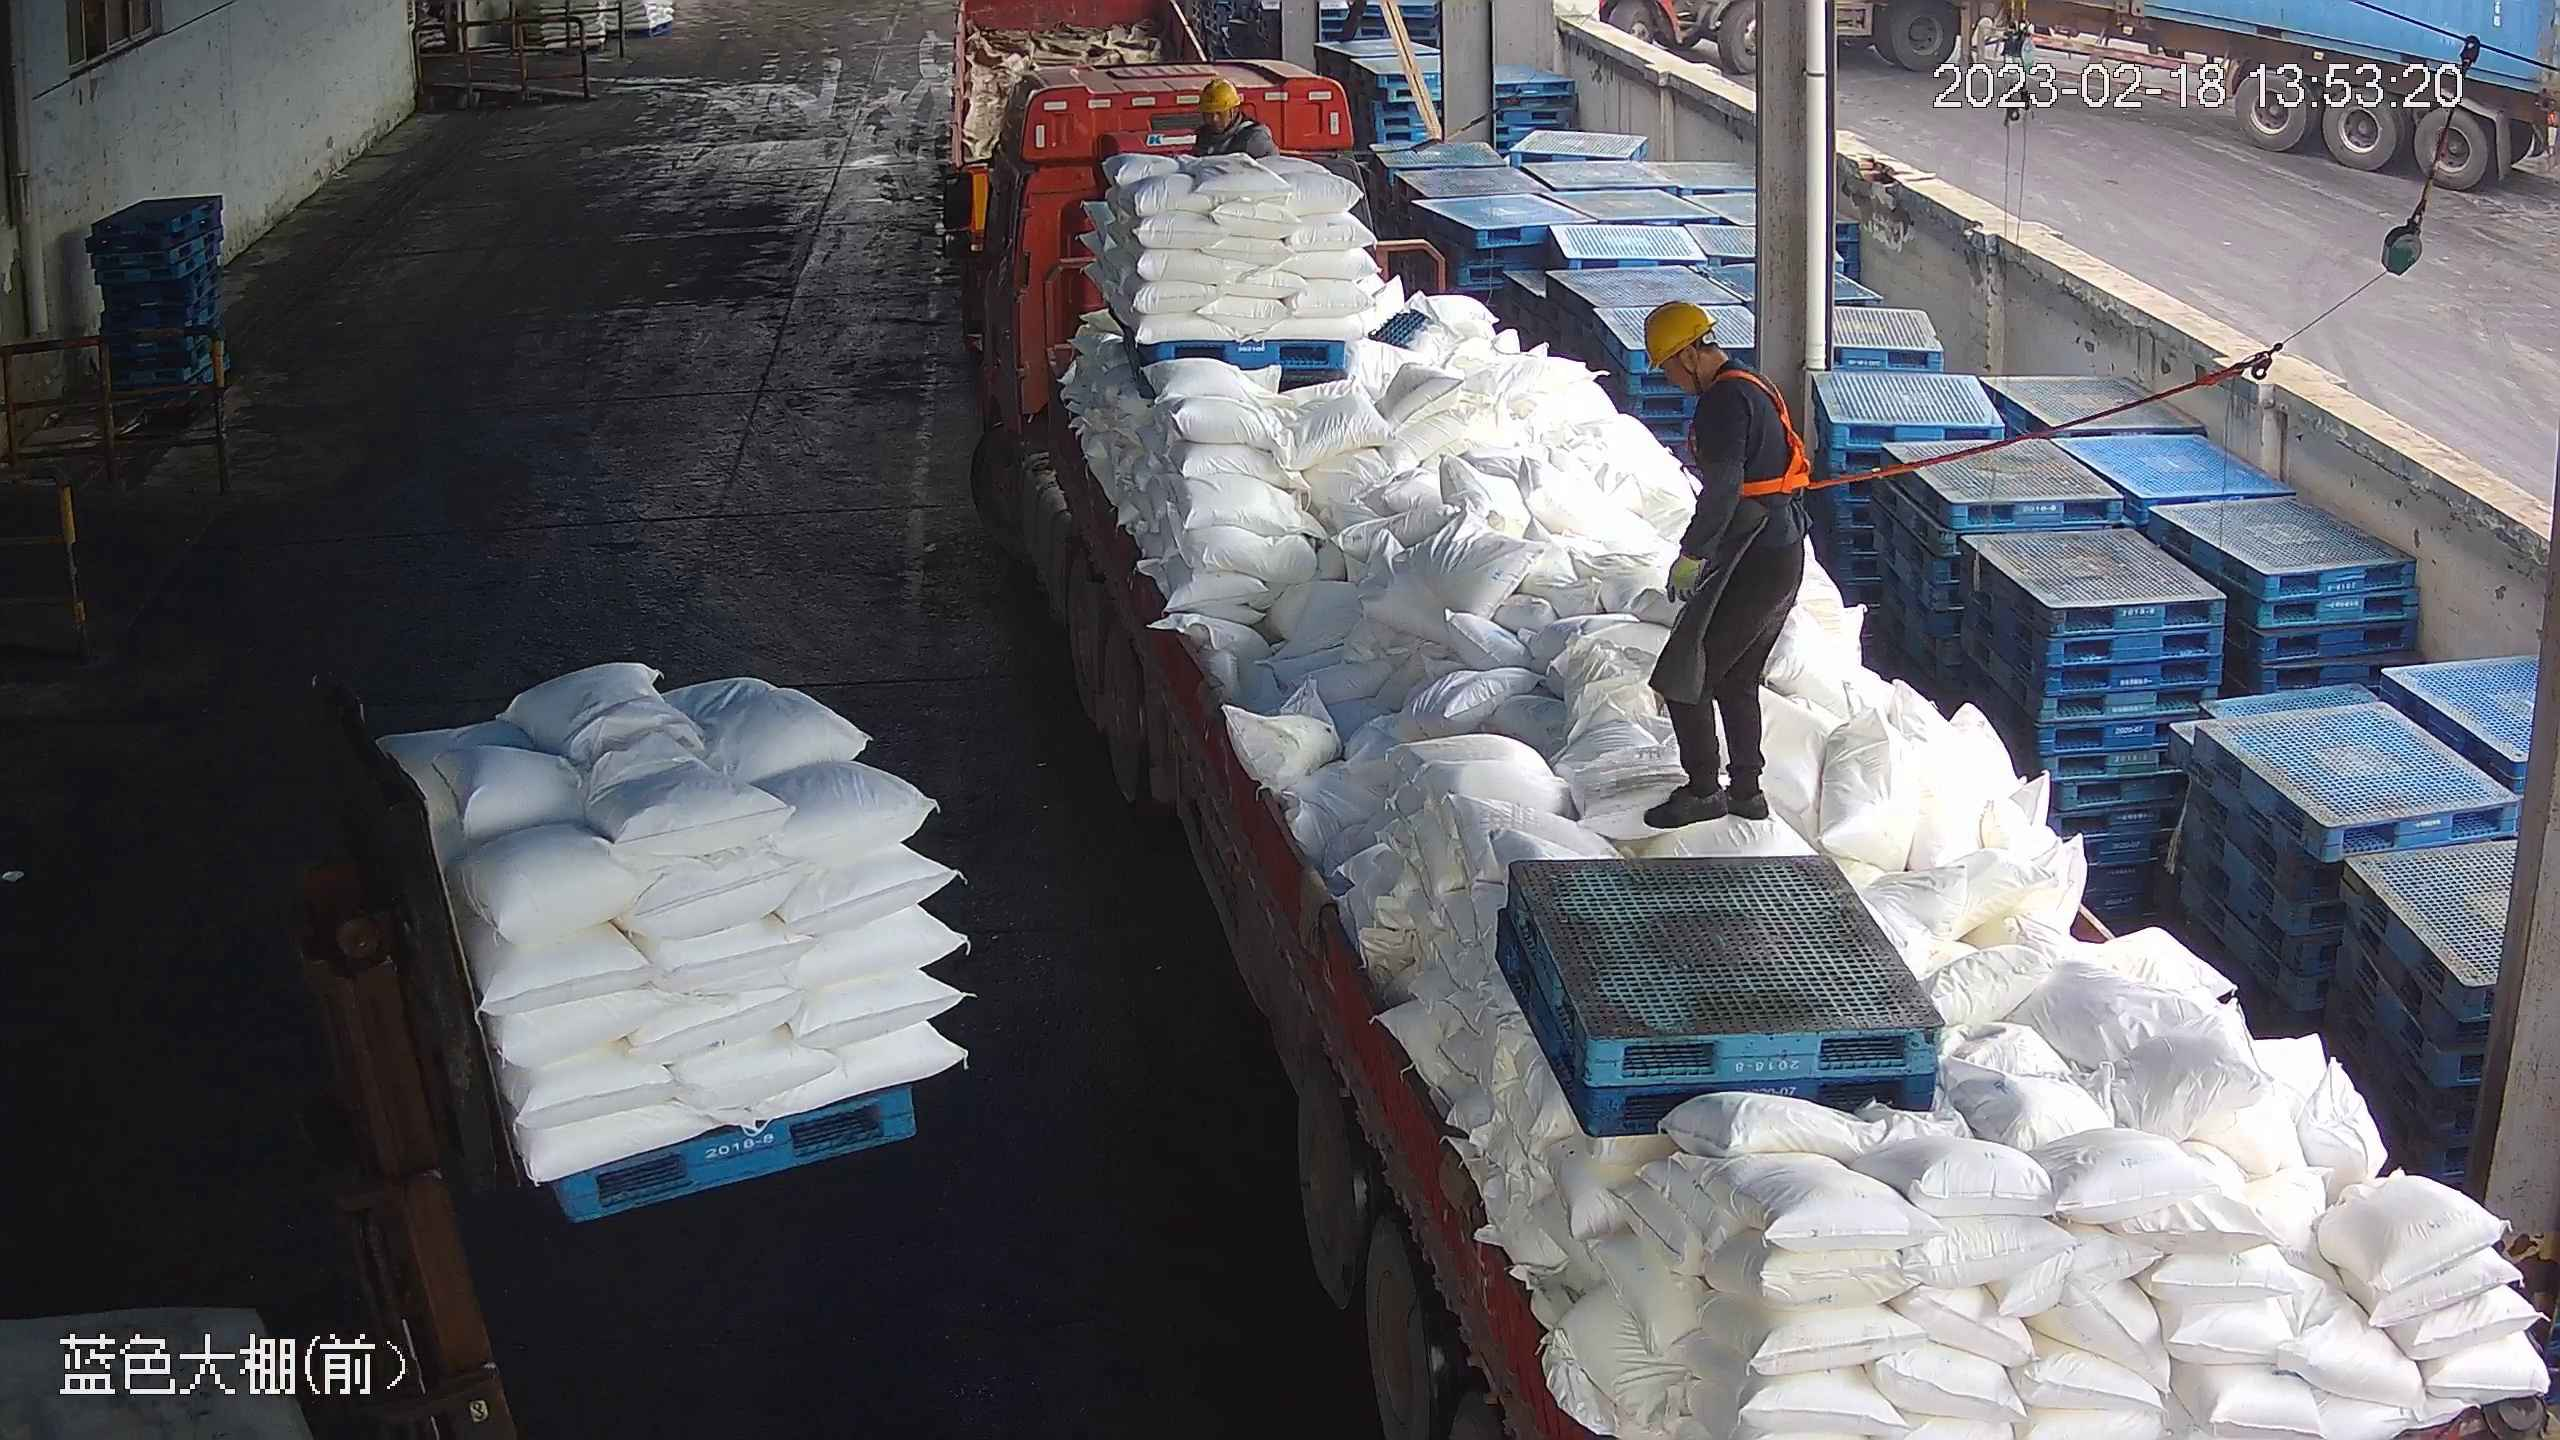belt: (1686, 367, 1842, 499)
head: (1643, 300, 1791, 420), (1190, 77, 1274, 145)
helmet: (1642, 300, 1718, 371), (1198, 78, 1242, 112)
people: (1639, 299, 1809, 830)
truck: (970, 59, 2560, 1440)
